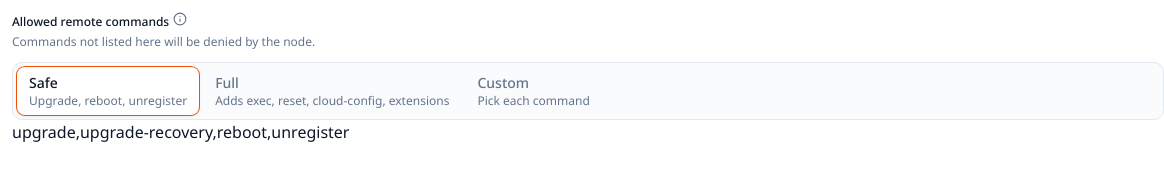
Test: CommandPresets › renders the custom picker only for Custom
Check: the text "custom picker" is not shown
Click the radio button labelled "Custom": [534, 91] box 465,67 -> 602,115
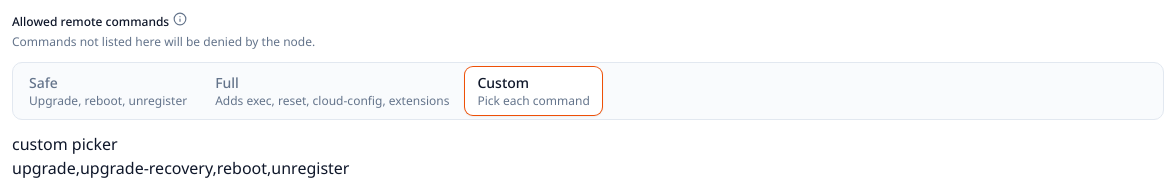
Check: the text "custom picker" is shown, box 12,133 -> 118,155
